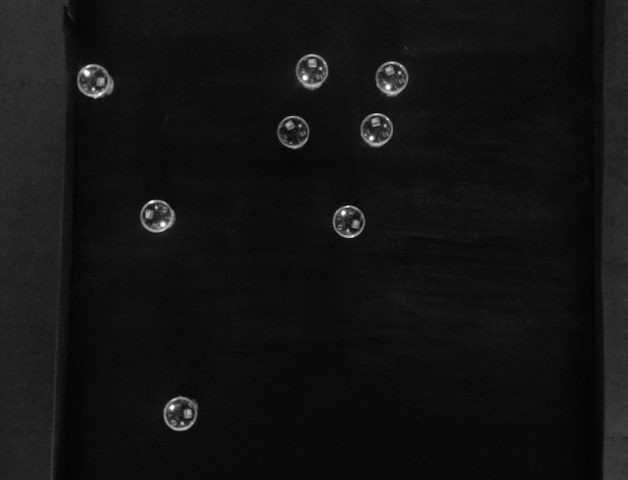epuck_2: (139, 196, 177, 234), (163, 394, 201, 431), (293, 53, 329, 90), (76, 65, 115, 99), (358, 112, 394, 148), (277, 112, 311, 150), (376, 59, 409, 98), (333, 204, 365, 239)
